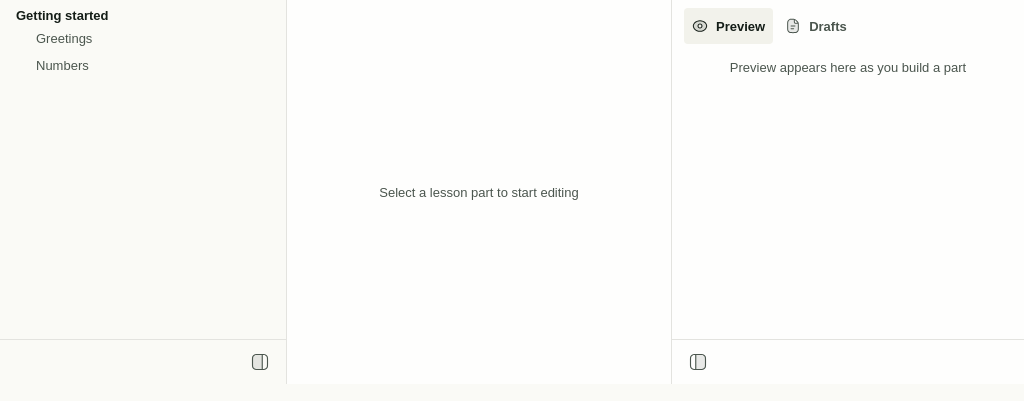
Test: LessonWorkspace › switches the reference pane between preview and drafts
Expected: the text "Preview appears here as you build a part" is shown, left=730, top=60, right=966, bottom=75
Click the tab "Drafts". click: [816, 26]
box: left=777, top=8, right=855, bottom=44
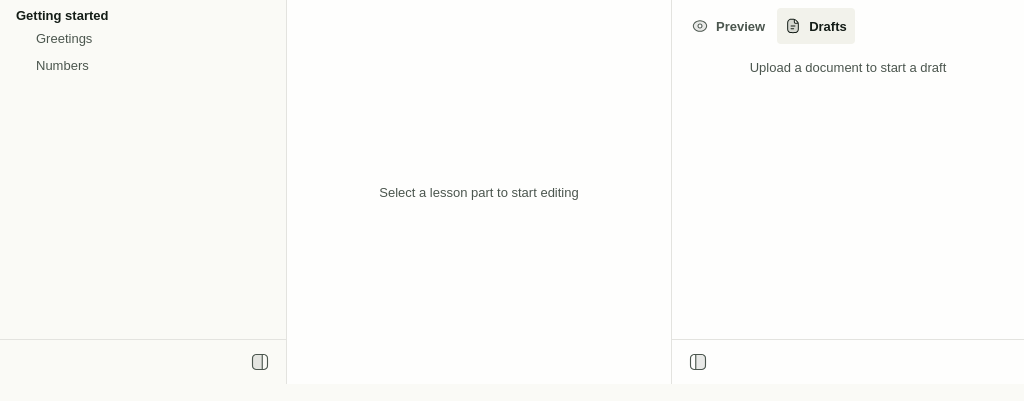
Now the text "Upload a document to start a draft" is shown, box left=750, top=60, right=946, bottom=75
